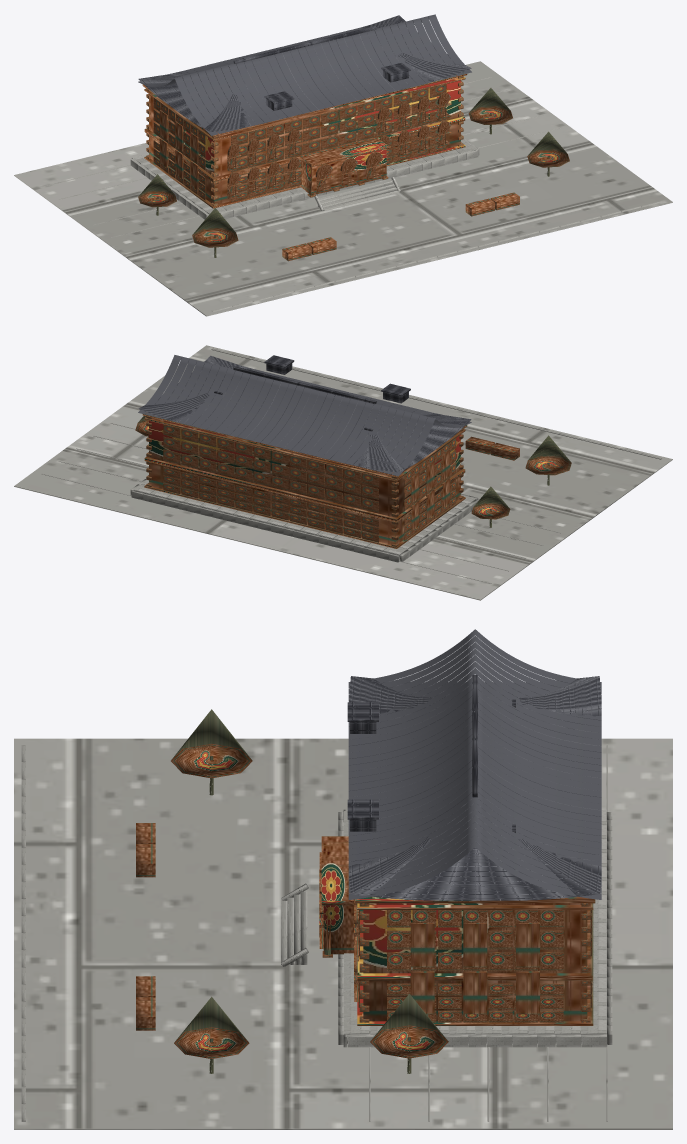
3 views of the same model, one above another, from view 1: azimuth 30°, elevation 25°; view 2: azimuth 150°, elevation 25°; view 3: azimuth 270°, elevation 25° (orthographic). The views are drawn at different scales.
Visible parts, largest first — view 1: 11140_02_04519_009_06__schoolyard_paving, 11140_02_04519_009_03__slate_hip_roof, 11140_02_04519_009_02__red_brick_two_storey_body, 11140_02_04519_009_05__arch_window_sash, 11140_02_04519_009_06__schoolyard_trees, 11140_02_04519_009_01__granite_plinth_stone, 11140_02_04519_009_03__dormer_chimney; view 2: 11140_02_04519_009_06__schoolyard_paving, 11140_02_04519_009_02__red_brick_two_storey_body, 11140_02_04519_009_03__slate_hip_roof, 11140_02_04519_009_01__granite_plinth_stone, 11140_02_04519_009_06__schoolyard_trees, 11140_02_04519_009_03__dormer_chimney, 11140_02_04519_009_05__arch_window_sash; view 3: 11140_02_04519_009_06__schoolyard_paving, 11140_02_04519_009_03__slate_hip_roof, 11140_02_04519_009_02__red_brick_two_storey_body, 11140_02_04519_009_01__granite_plinth_stone, 11140_02_04519_009_06__schoolyard_trees, 11140_02_04519_009_05__arch_window_sash, 11140_02_04519_009_03__dormer_chimney.
Part boxes in pixels (x1,y1,x2,y2): 11140_02_04519_009_06__schoolyard_paving: (14,61,672,316); 11140_02_04519_009_03__slate_hip_roof: (138,14,471,135); 11140_02_04519_009_02__red_brick_two_storey_body: (142,72,467,208); 11140_02_04519_009_05__arch_window_sash: (159,92,451,198); 11140_02_04519_009_06__schoolyard_trees: (138,88,569,261); 11140_02_04519_009_01__granite_plinth_stone: (130,138,479,219); 11140_02_04519_009_03__dormer_chimney: (233,26,410,110); 11140_02_04519_009_06__schoolyard_paving: (14,345,672,600); 11140_02_04519_009_02__red_brick_two_storey_body: (142,413,467,548); 11140_02_04519_009_03__slate_hip_roof: (138,355,471,476); 11140_02_04519_009_01__granite_plinth_stone: (130,478,478,562); 11140_02_04519_009_06__schoolyard_trees: (135,416,571,527); 11140_02_04519_009_03__dormer_chimney: (214,355,410,431); 11140_02_04519_009_05__arch_window_sash: (410,450,450,530); 11140_02_04519_009_06__schoolyard_paving: (14,738,672,1129); 11140_02_04519_009_03__slate_hip_roof: (348,629,601,900); 11140_02_04519_009_02__red_brick_two_storey_body: (321,836,595,1025); 11140_02_04519_009_01__granite_plinth_stone: (281,809,612,1047); 11140_02_04519_009_06__schoolyard_trees: (136,709,448,1073); 11140_02_04519_009_05__arch_window_sash: (319,852,539,1014); 11140_02_04519_009_03__dormer_chimney: (347,675,515,832).
Size of the model in its own units: 56 by 13.44 by 40.
7 materials, 7 textured.
